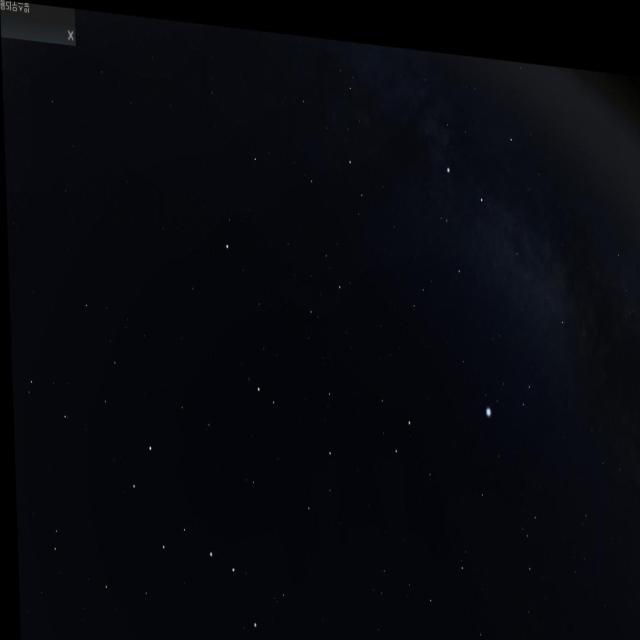cygnus: (426, 98, 576, 340)
lyra: (479, 346, 536, 412)
ursa_major: (137, 444, 276, 639)
